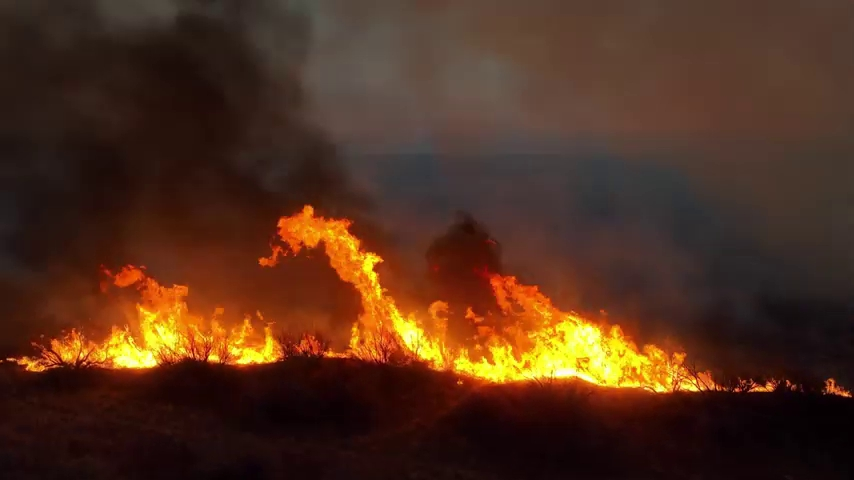forest_fire: (259, 206, 719, 390), (10, 266, 283, 369), (745, 380, 794, 390), (823, 378, 850, 395), (469, 311, 473, 315)
